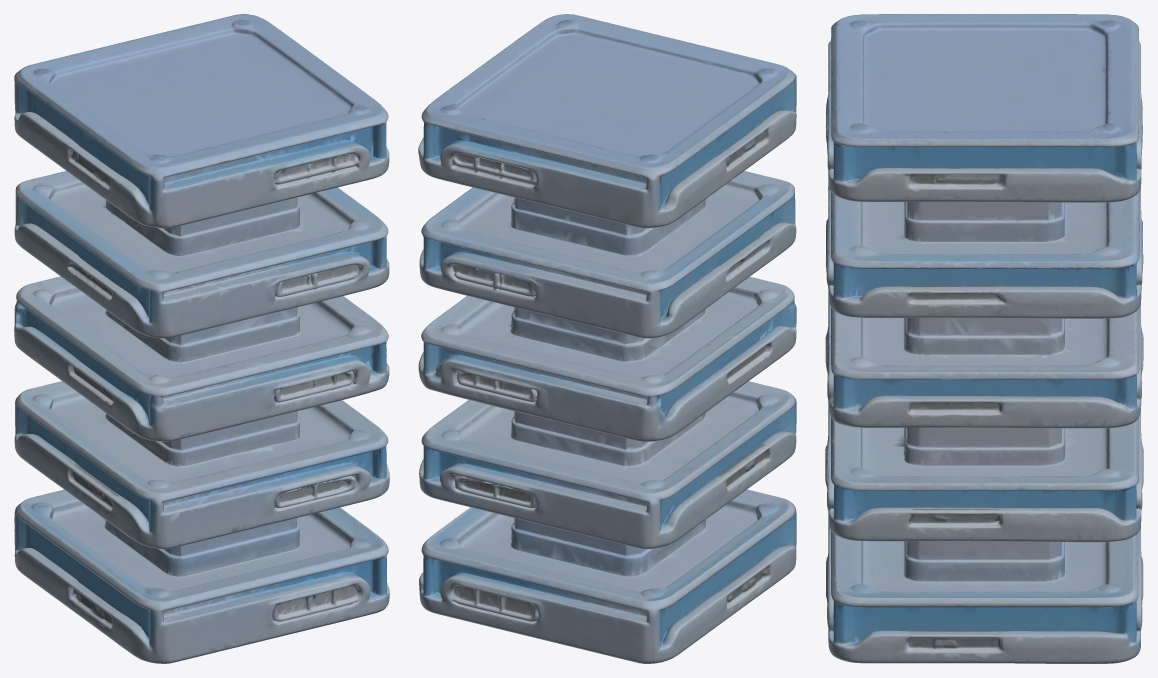
Rendered from audit_ledger_vault.glb.
The picture shows the model from 3 angles, left to right: view 1: azimuth 30°, elevation 25°; view 2: azimuth 150°, elevation 25°; view 3: azimuth 270°, elevation 25°; orthographic projection. The views are drawn at different scales.
Visible parts, largest first — view 1: tripo_node_e9a3dec5-e576-4b63-bc3b-8680f8660144; view 2: tripo_node_e9a3dec5-e576-4b63-bc3b-8680f8660144; view 3: tripo_node_e9a3dec5-e576-4b63-bc3b-8680f8660144.
Boxes of the visible parts, box(x1,y1,x2,y2) form: tripo_node_e9a3dec5-e576-4b63-bc3b-8680f8660144: box(14, 14, 389, 663); tripo_node_e9a3dec5-e576-4b63-bc3b-8680f8660144: box(418, 14, 796, 663); tripo_node_e9a3dec5-e576-4b63-bc3b-8680f8660144: box(825, 14, 1143, 663).
Size of the model in its own units: 0.5213 by 1 by 0.5346.
Materials: 1 (1 with a texture image).
